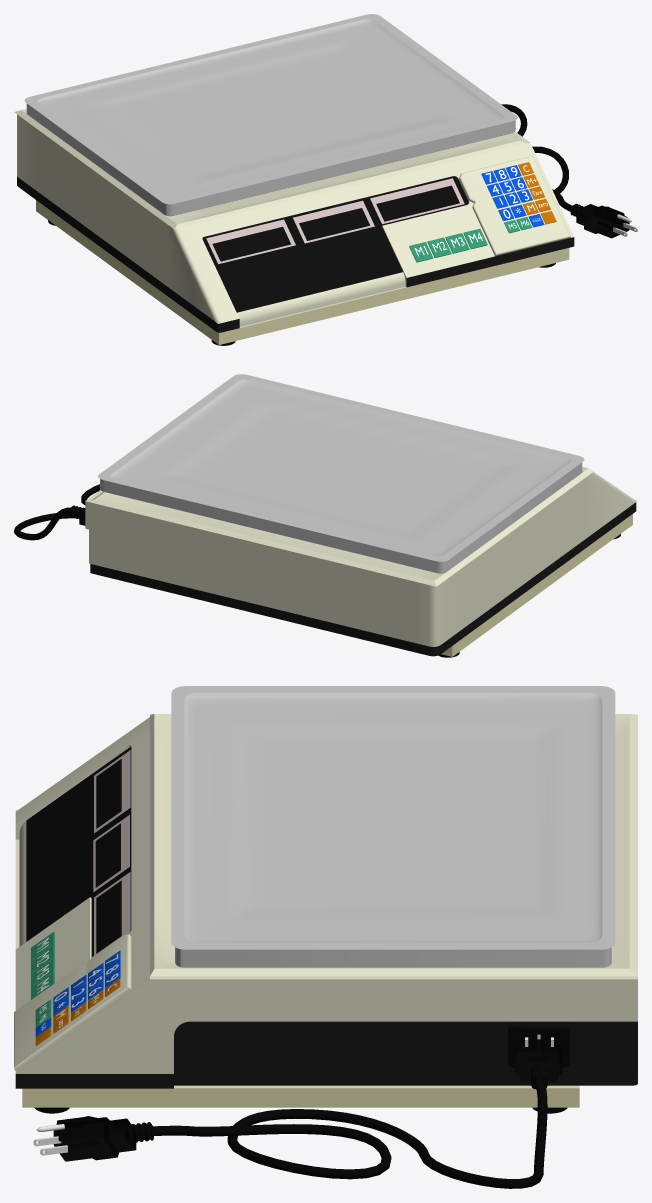
The model's file is electronic_scale.glb.
3 renders of one model, top to bottom at view 1: azimuth 30°, elevation 25°; view 2: azimuth 150°, elevation 25°; view 3: azimuth 270°, elevation 25°, orthographic. The views are drawn at different scales.
Parts seen in each view (by area): view 1: Cube.006_2, Cube.013_6, Cube.008_30, Cube.015_33, Cube.012_31, Cube.014_32; view 2: Cube.006_2, Cube.008_30; view 3: Cube.006_2, Cube.008_30, Cube.013_6, Cube.012_31, Cube.015_33, Cube.014_32.
Boxes of the visible parts, x1,y1,x2,y2 form: Cube.006_2: (14, 14, 574, 345); Cube.013_6: (481, 162, 556, 233); Cube.008_30: (501, 104, 637, 238); Cube.015_33: (370, 178, 464, 224); Cube.012_31: (206, 219, 295, 263); Cube.014_32: (293, 200, 374, 243); Cube.006_2: (85, 374, 637, 657); Cube.008_30: (14, 484, 100, 540); Cube.006_2: (14, 686, 637, 1113); Cube.008_30: (33, 1034, 562, 1188); Cube.013_6: (35, 950, 120, 1045); Cube.012_31: (94, 750, 130, 833); Cube.015_33: (94, 872, 130, 955); Cube.014_32: (93, 815, 129, 892).
Size of the model in its own units: 0.5295 by 0.1202 by 0.4032.
